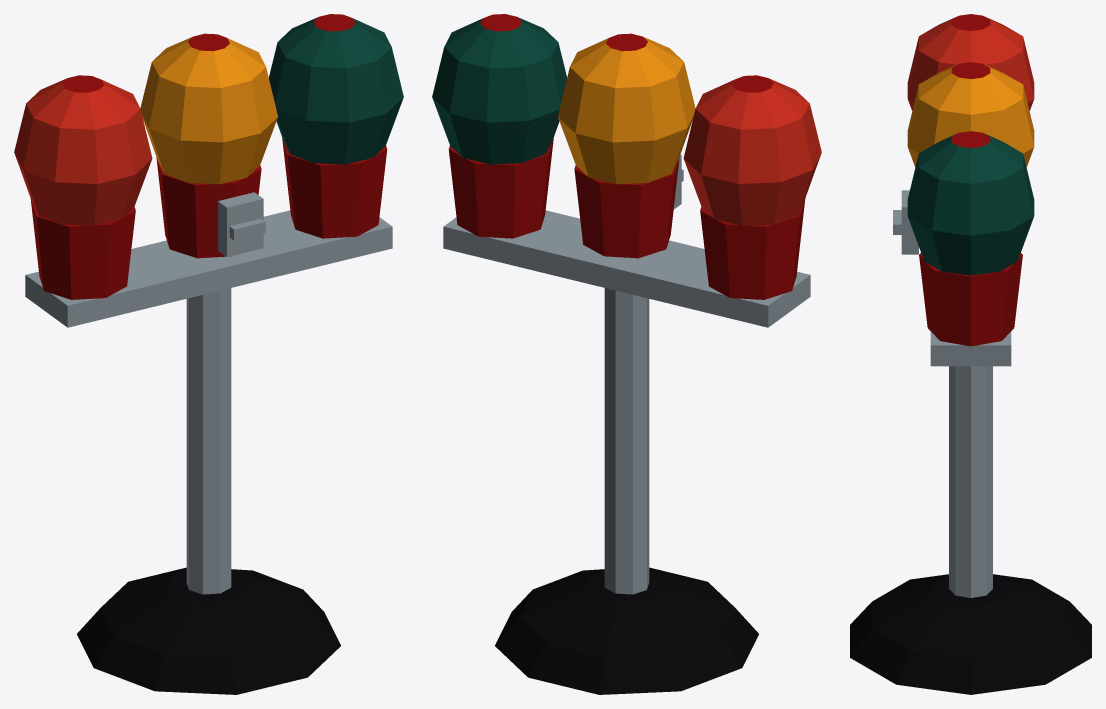
File: cozy_bowling_gumball_tri_rack.obj
3 renders of one model, left to right at view 1: azimuth 30°, elevation 25°; view 2: azimuth 150°, elevation 25°; view 3: azimuth 270°, elevation 25°, orthographic. The views are drawn at different scales.
Visible parts, largest first — view 1: Gumball_Mesh; view 2: Gumball_Mesh; view 3: Gumball_Mesh.
Boxes of the visible parts, x1,y1,x2,y2 form: Gumball_Mesh: (14, 14, 403, 694); Gumball_Mesh: (432, 14, 821, 694); Gumball_Mesh: (850, 14, 1091, 694).
Bounding box in the file's own units: 0.71 × 1.09 × 0.4185.
